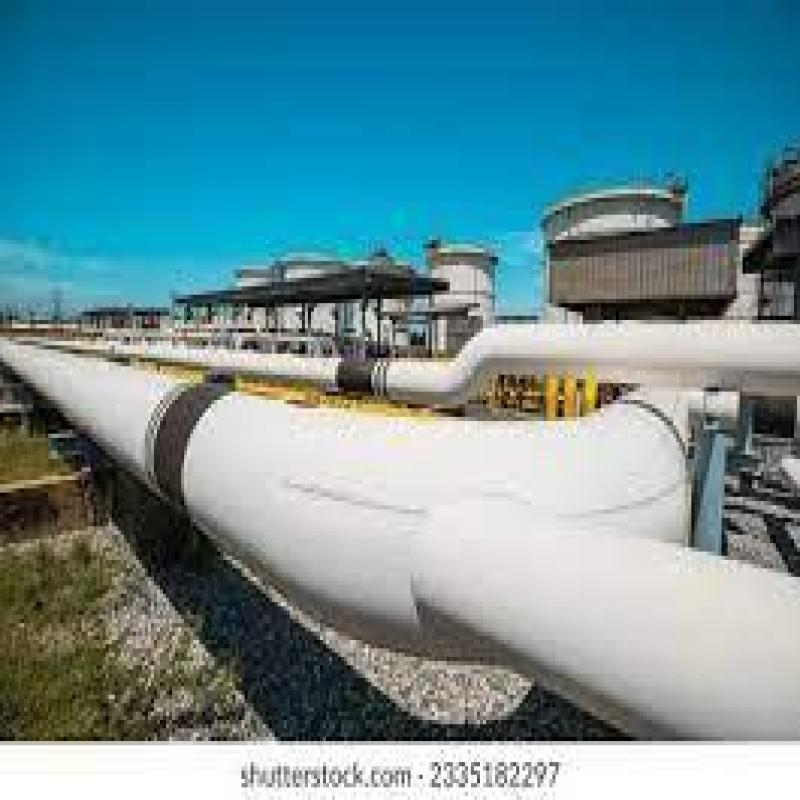Healthy: (69, 326, 800, 792)
